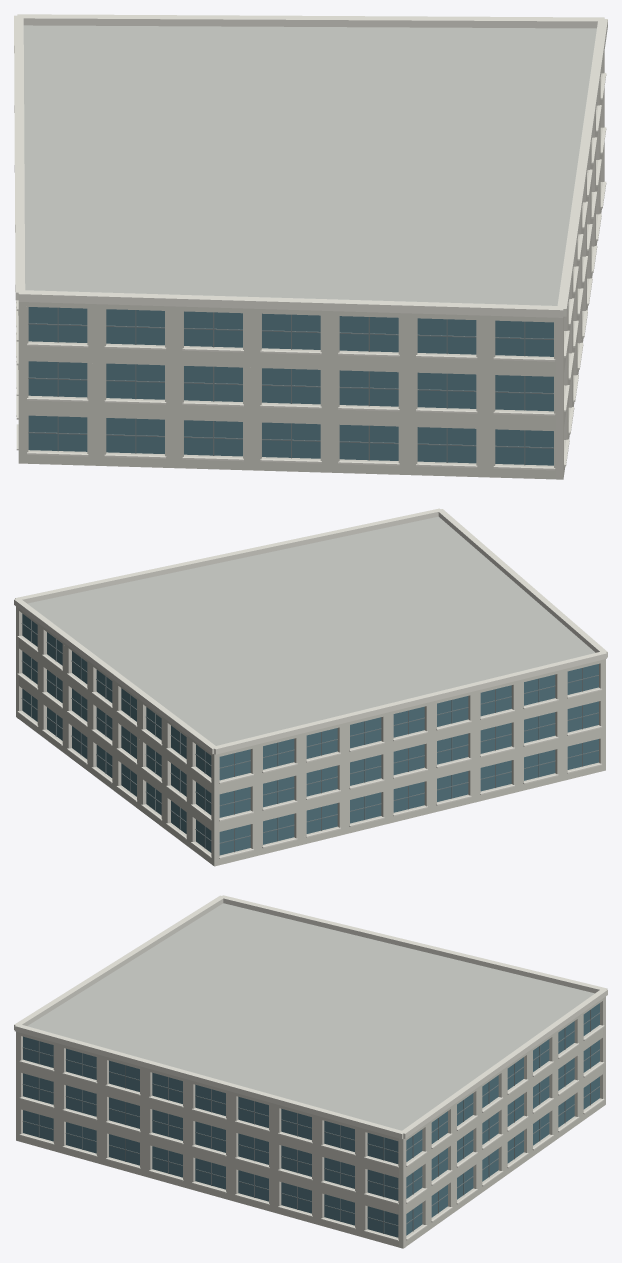
3 renders of one model, top to bottom at view 1: azimuth 30°, elevation 25°; view 2: azimuth 150°, elevation 25°; view 3: azimuth 270°, elevation 25°, orthographic. The views are drawn at different scales.
Parts seen in each view (by area): view 1: roof, wall, glass, trim, metal; view 2: roof, wall, glass, trim, metal; view 3: roof, wall, glass, trim, metal.
Part boxes in pixels (<box>): roof: <box>23,25,596,305</box>; wall: <box>18,51,604,479</box>; glass: <box>28,307,553,465</box>; trim: <box>14,14,607,470</box>; metal: <box>28,307,553,465</box>; roof: <box>27,516,595,745</box>; wall: <box>16,606,605,866</box>; glass: <box>22,613,598,855</box>; trim: <box>14,508,607,858</box>; metal: <box>21,620,598,852</box>; roof: <box>27,903,594,1130</box>; wall: <box>16,996,605,1248</box>; glass: <box>23,1003,599,1237</box>; trim: <box>14,895,607,1240</box>; metal: <box>22,1009,600,1233</box>.
Size of the model in its own units: 43.26 by 9.74 by 45.45.
